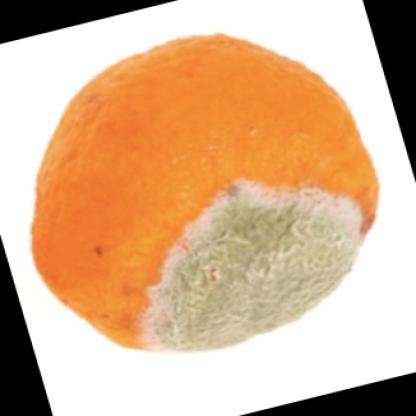rotten: (36, 35, 380, 348)
